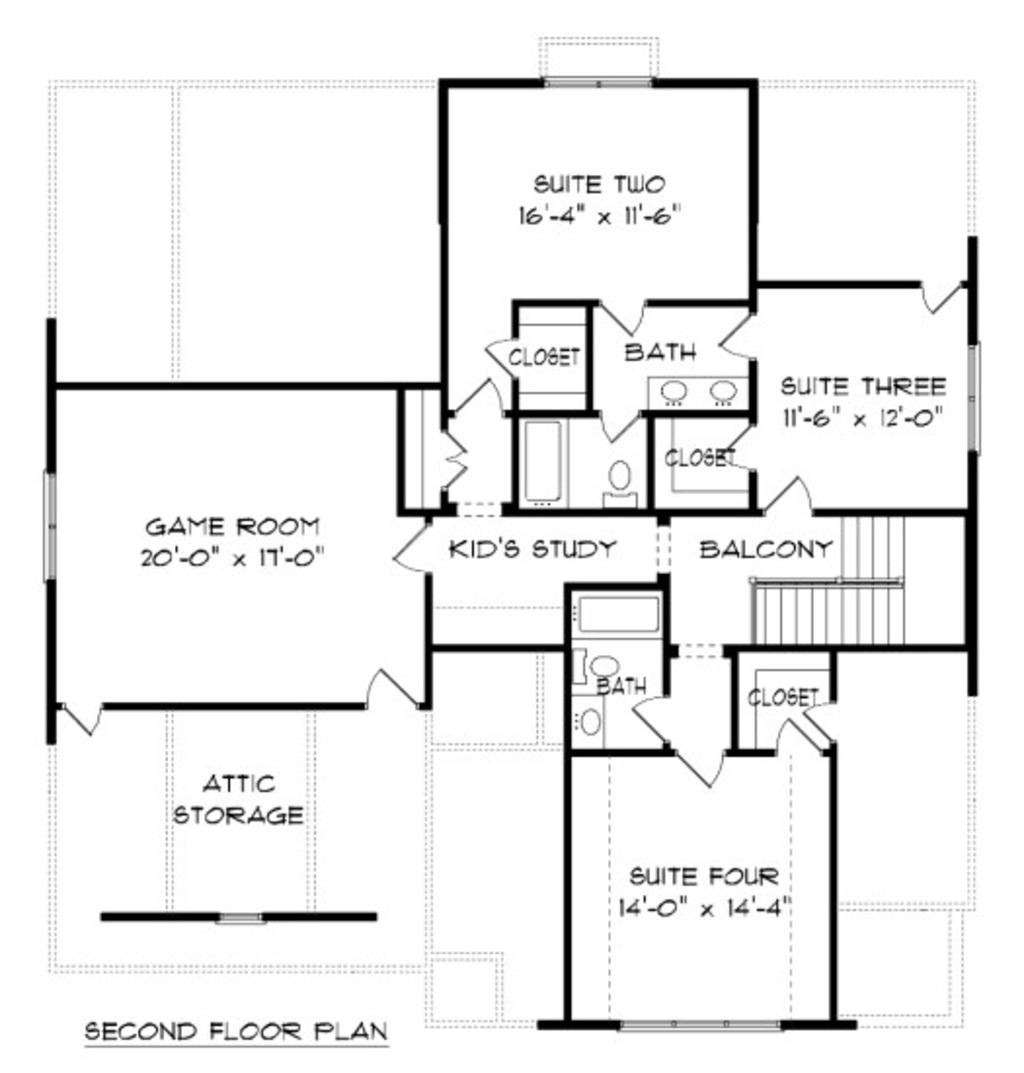door: (345, 652, 422, 713), (434, 365, 512, 416), (429, 424, 473, 498), (668, 737, 729, 790), (717, 416, 765, 480), (394, 506, 438, 575), (630, 686, 678, 749), (760, 468, 816, 519), (911, 278, 970, 318), (593, 404, 645, 445), (801, 696, 847, 742), (53, 688, 96, 736), (771, 714, 820, 755), (601, 300, 647, 342), (720, 308, 755, 362)
large_sink: (594, 459, 647, 513), (570, 650, 635, 693)
small_sink: (655, 378, 753, 409), (571, 704, 604, 754)
stairs: (727, 513, 986, 660)
tub: (517, 414, 575, 511), (570, 593, 668, 649)
window: (955, 329, 989, 472), (34, 460, 61, 604), (616, 1014, 784, 1037), (542, 73, 656, 98), (212, 904, 265, 936)
